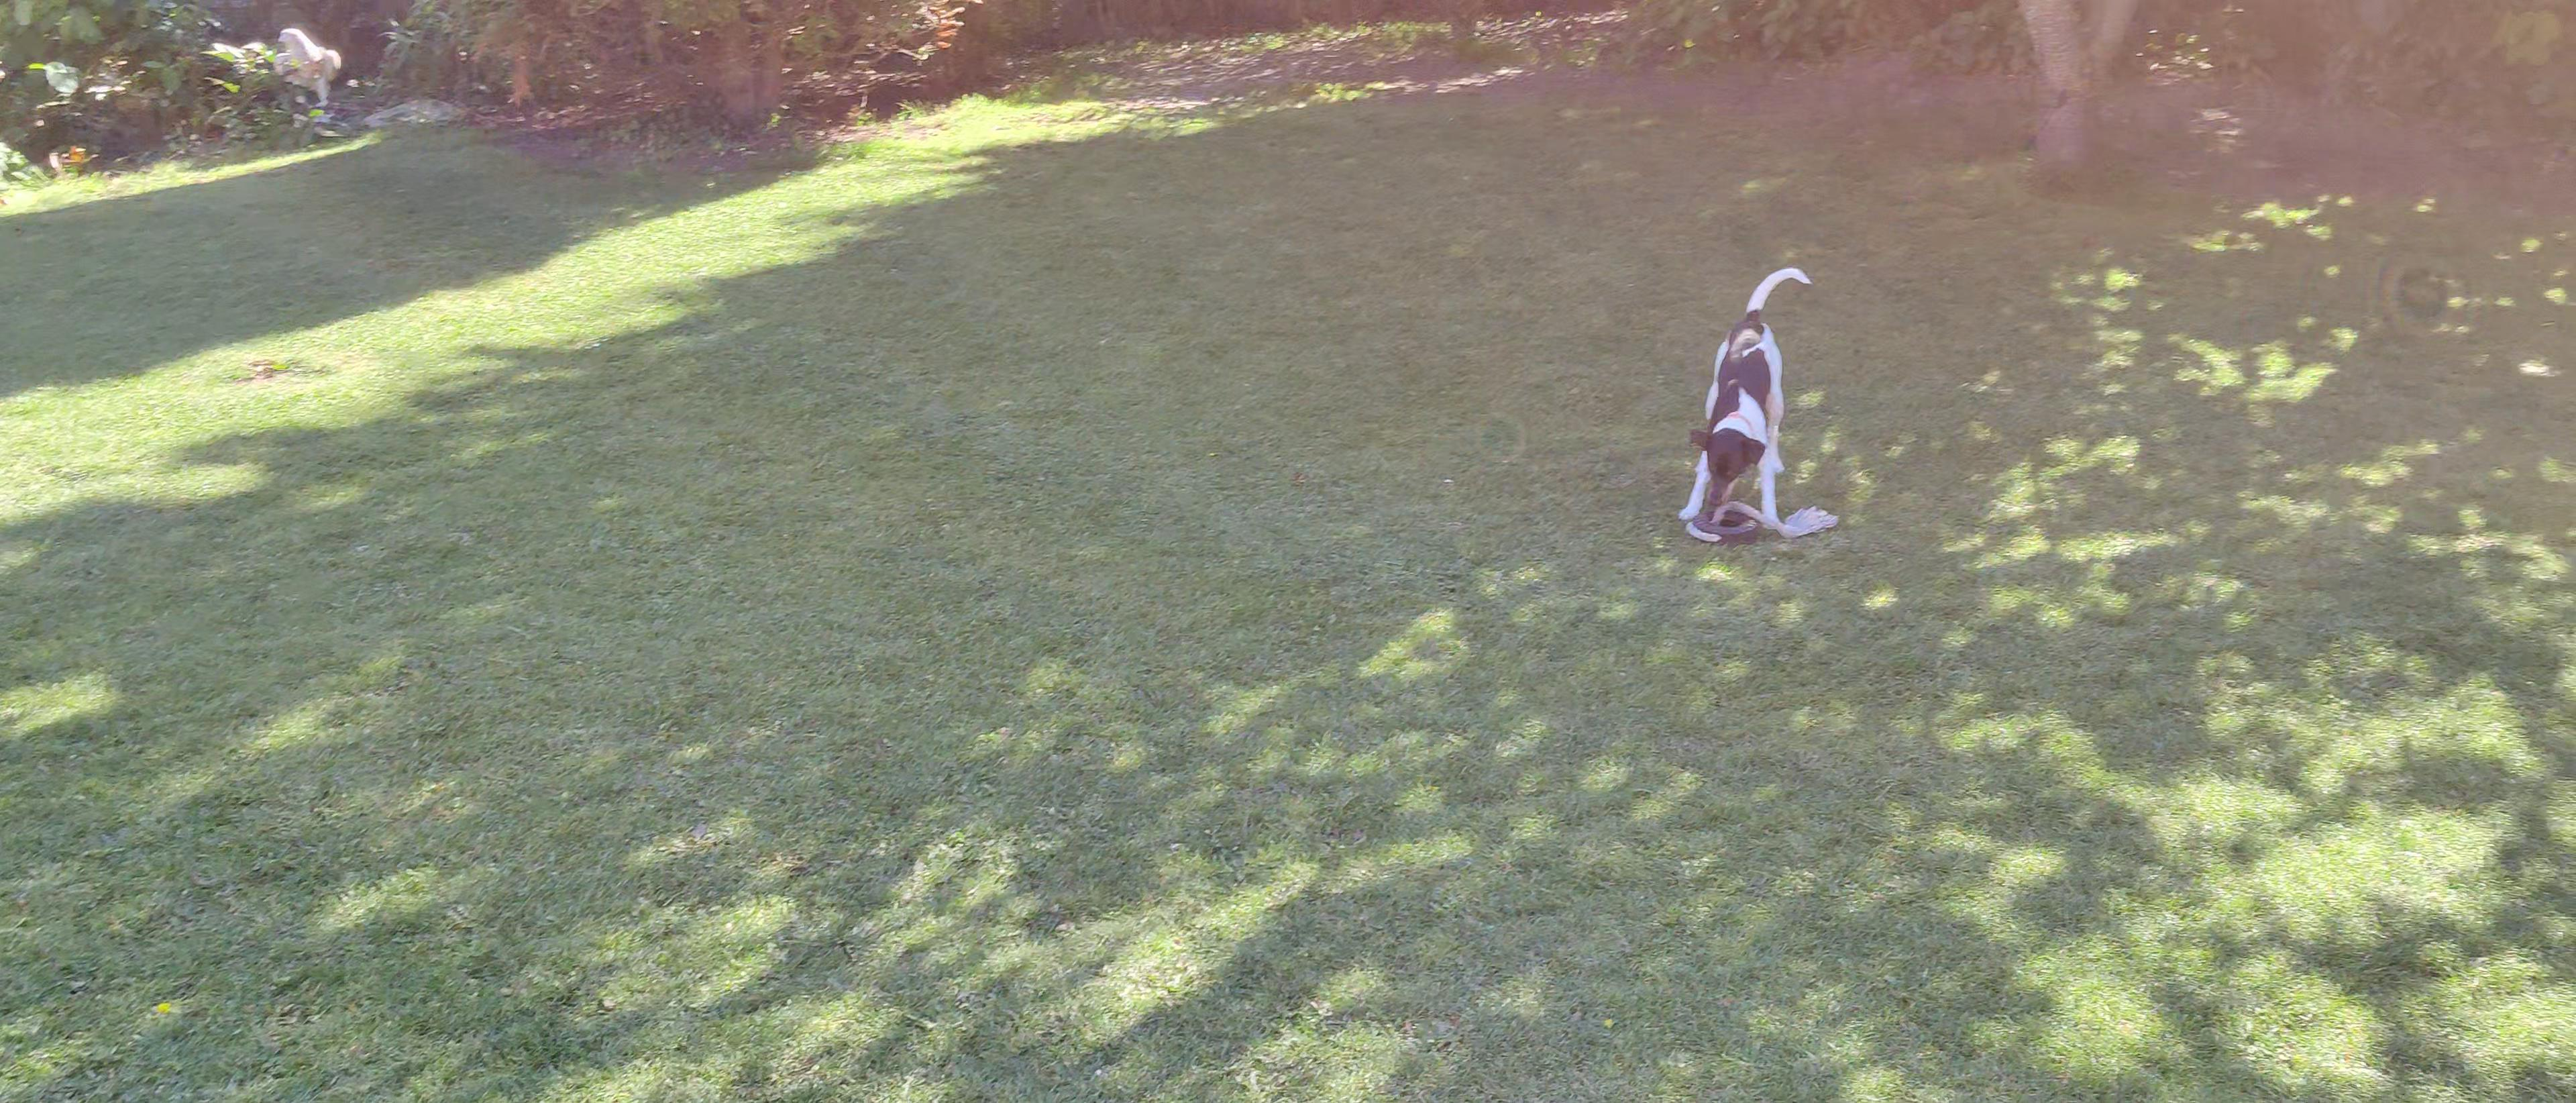Dog: (1659, 258, 1825, 536)
